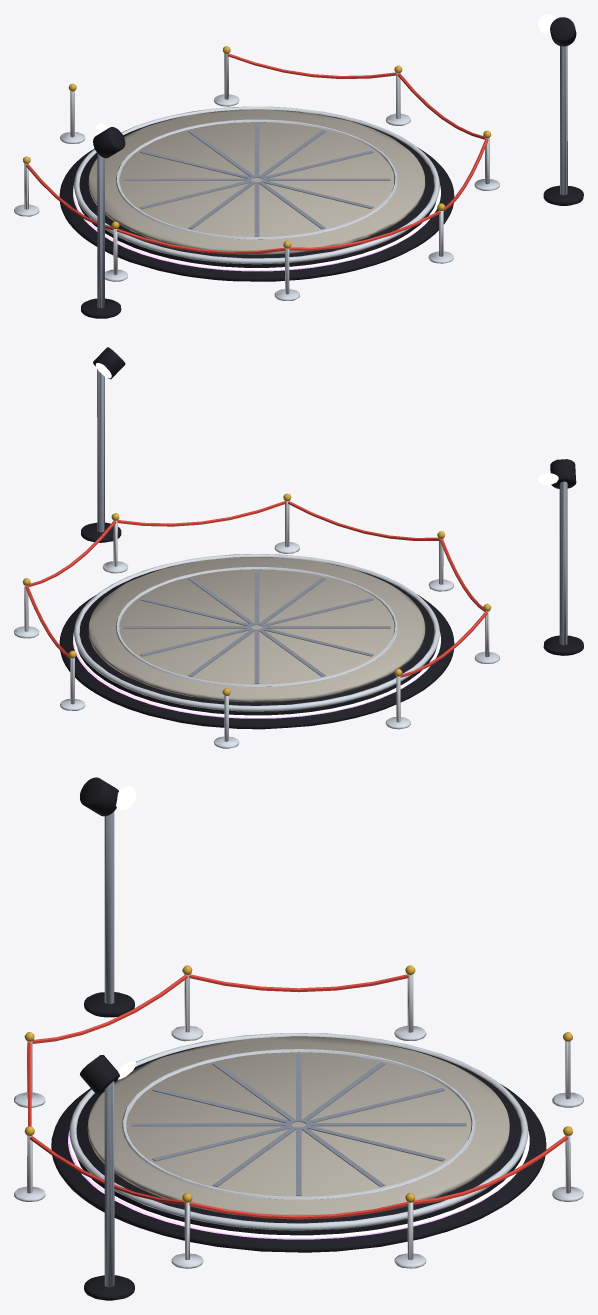
The model's file is show_turntable.glb.
The picture shows the model from 3 angles, top to bottom: view 1: azimuth 30°, elevation 25°; view 2: azimuth 150°, elevation 25°; view 3: azimuth 270°, elevation 25°; orthographic projection. The views are drawn at different scales.
Visible parts, largest first — view 1: turntable_top.001, show_turntable.001; view 2: turntable_top.001, show_turntable.001; view 3: turntable_top.001, show_turntable.001.
Part boxes in pixels (<box>): turntable_top.001: <box>88,109,425,254</box>; show_turntable.001: <box>14,14,583,318</box>; turntable_top.001: <box>88,557,425,702</box>; show_turntable.001: <box>14,347,583,748</box>; turntable_top.001: <box>87,1036,509,1216</box>; show_turntable.001: <box>14,777,583,1300</box>.
Bounding box in the file's own units: 9.89 × 3.5 × 7.83.
Materials: 1 (1 with a texture image).
